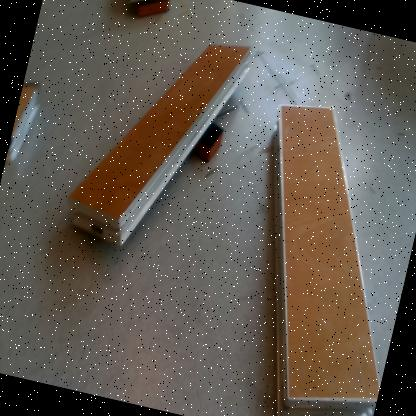Stairs: (67, 42, 255, 255), (271, 104, 381, 416), (6, 83, 40, 166)
